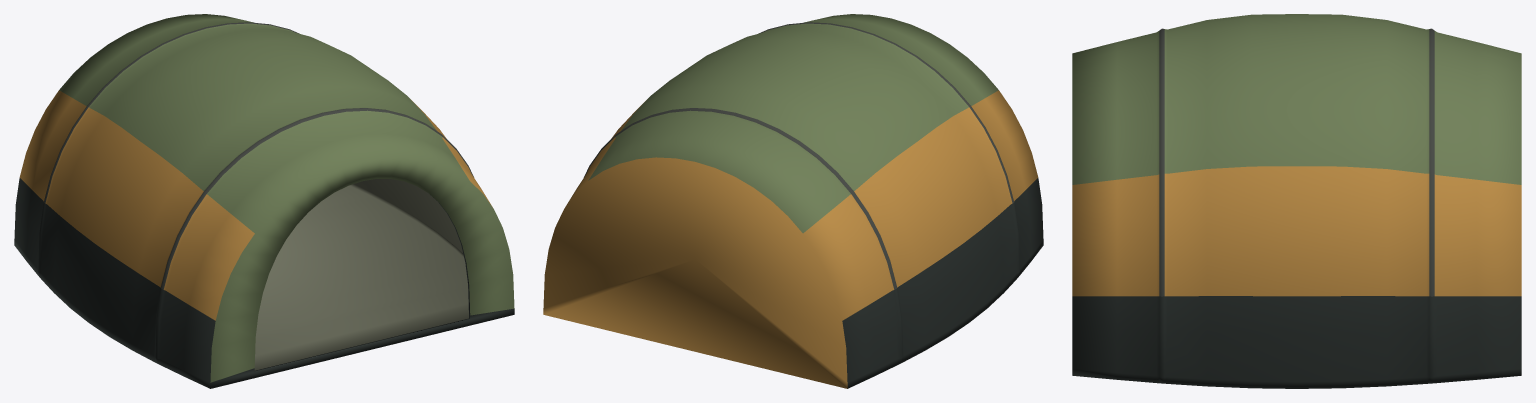
The model's file is A-NEW-20261027-DOME_TENT-001_LOD2_R2.fbx.
3 views of the same model, side by side, from view 1: azimuth 30°, elevation 25°; view 2: azimuth 150°, elevation 25°; view 3: azimuth 270°, elevation 25° (orthographic). The views are drawn at different scales.
Visible parts, largest first — view 1: original dome tent walls fly ribs floor and entrance; view 2: original dome tent walls fly ribs floor and entrance; view 3: original dome tent walls fly ribs floor and entrance.
Boxes of the visible parts, x1=… form: original dome tent walls fly ribs floor and entrance: x1=14, y1=14, x2=514, y2=388; original dome tent walls fly ribs floor and entrance: x1=543, y1=14, x2=1043, y2=388; original dome tent walls fly ribs floor and entrance: x1=1072, y1=14, x2=1521, y2=388.
Bounding box in the file's own units: 238 × 144 × 230.
